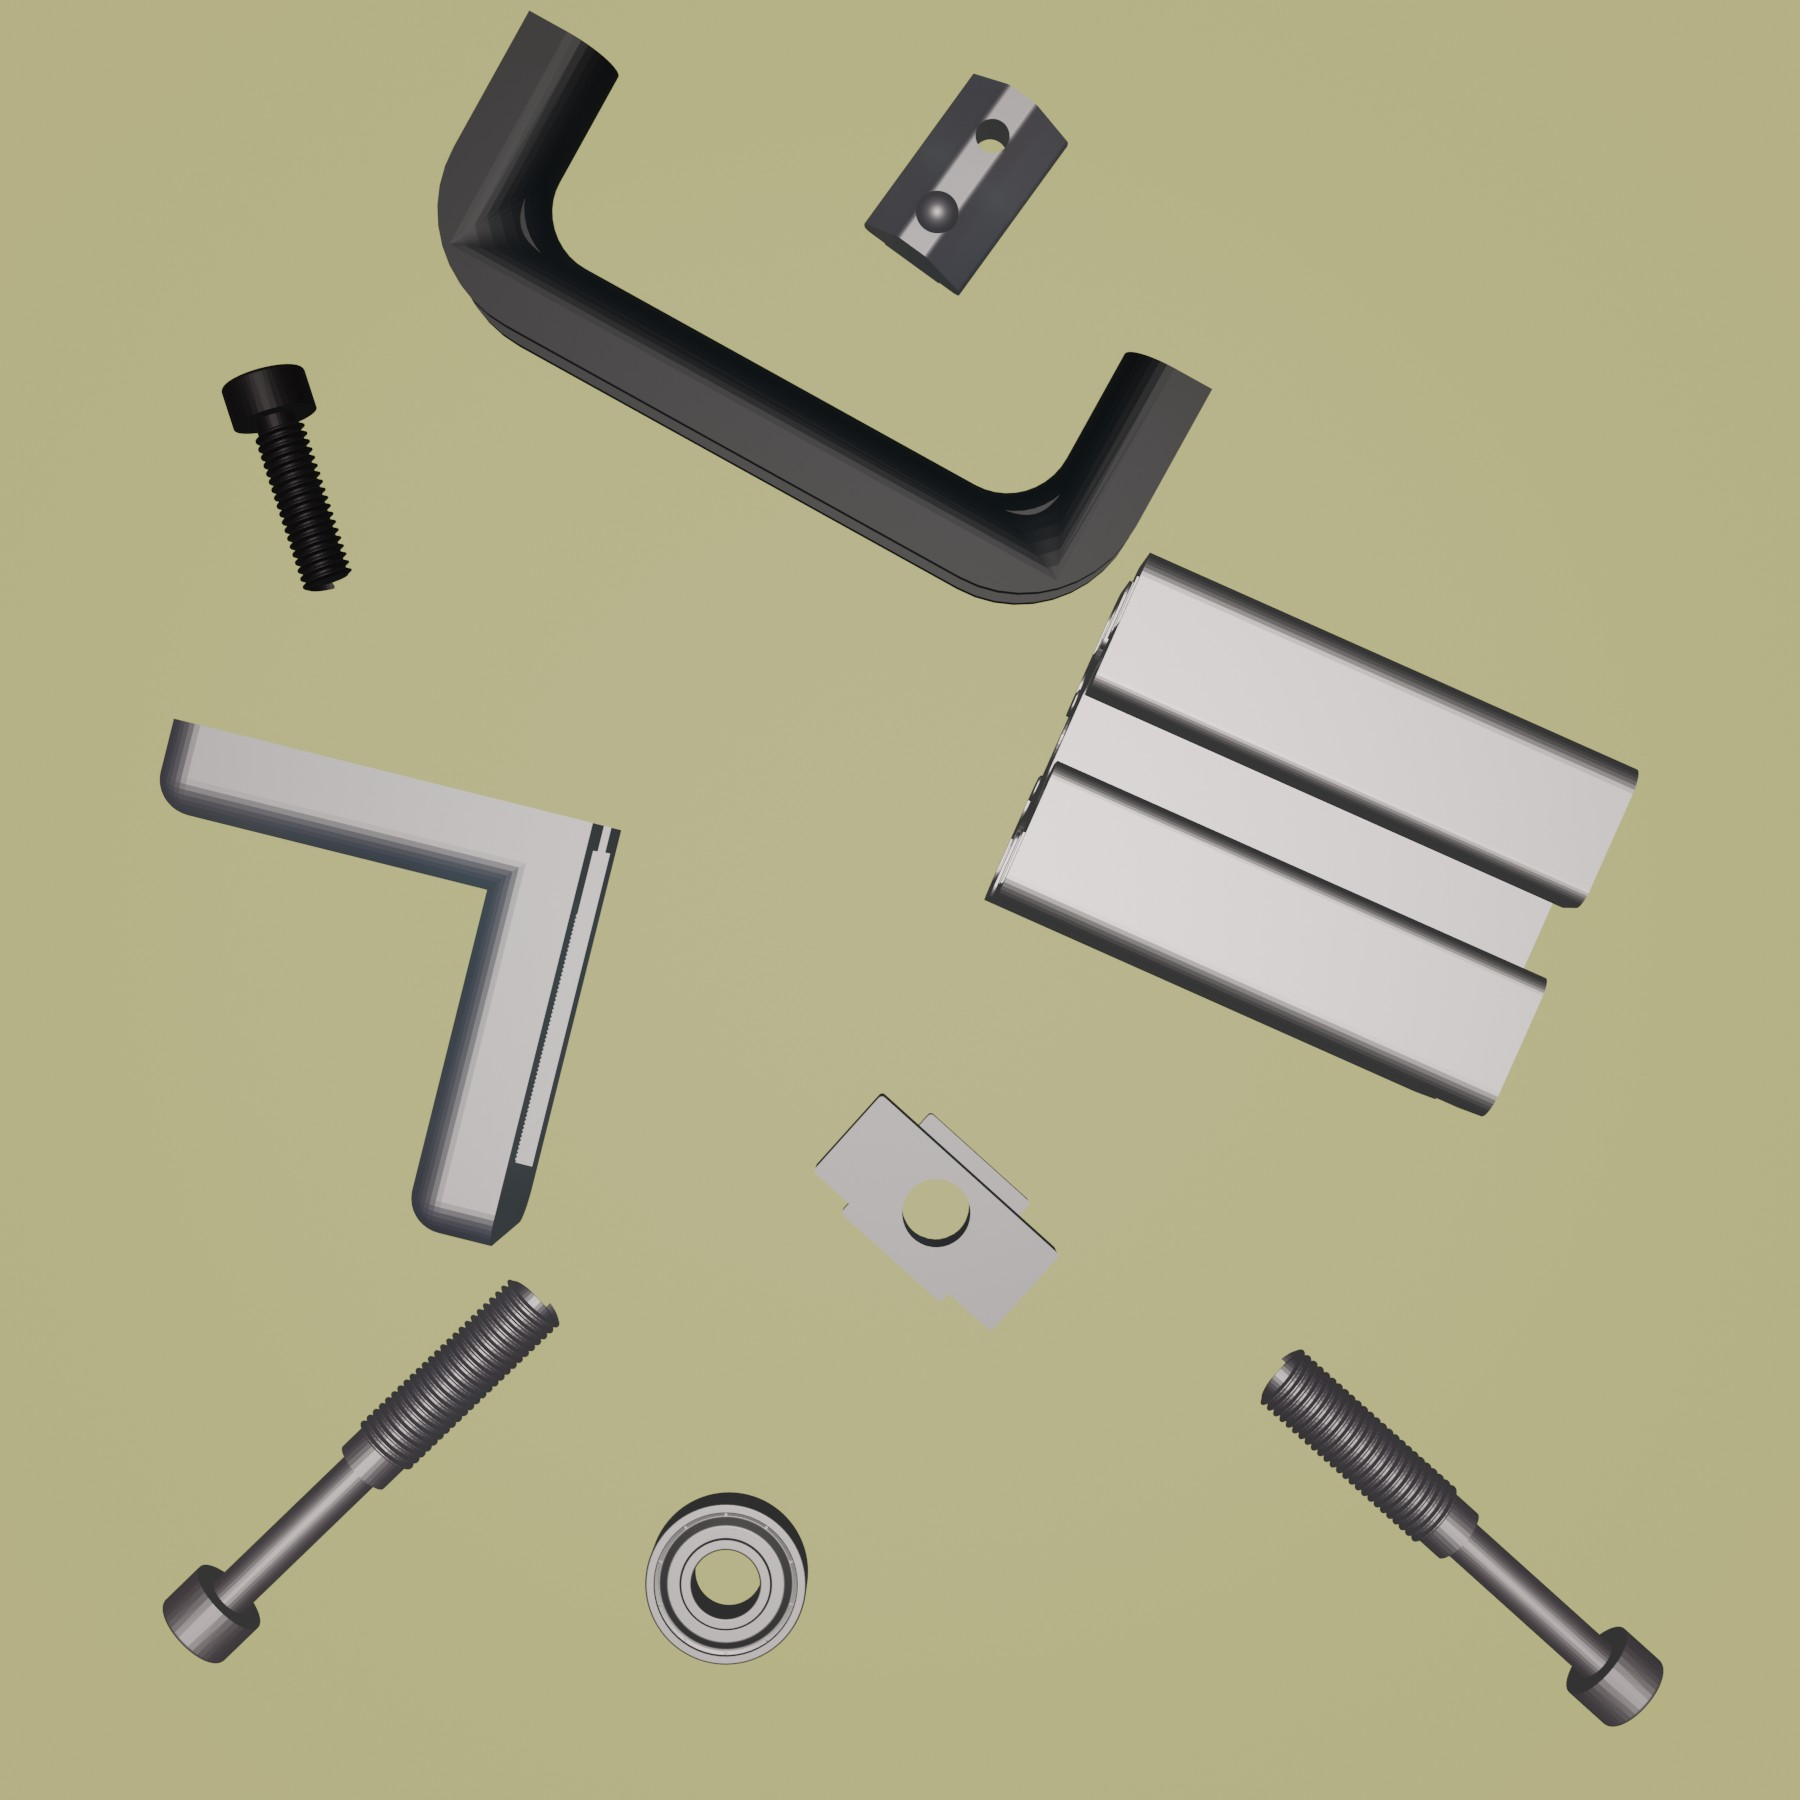Aluminium Extension: (981, 546, 1640, 1119)
Ball Bearing: (641, 1488, 811, 1670)
Multiwinkel: (158, 712, 623, 1248)
Pull Handle: (435, 5, 1215, 608)
Shoulder Socket Head Cap Screw: (158, 1274, 560, 1666), (1256, 1347, 1665, 1731)
Socket Head Cap Screw: (219, 363, 354, 597)
T Nut Square: (808, 1088, 1058, 1320)
T Spring Nut: (862, 69, 1071, 295)
